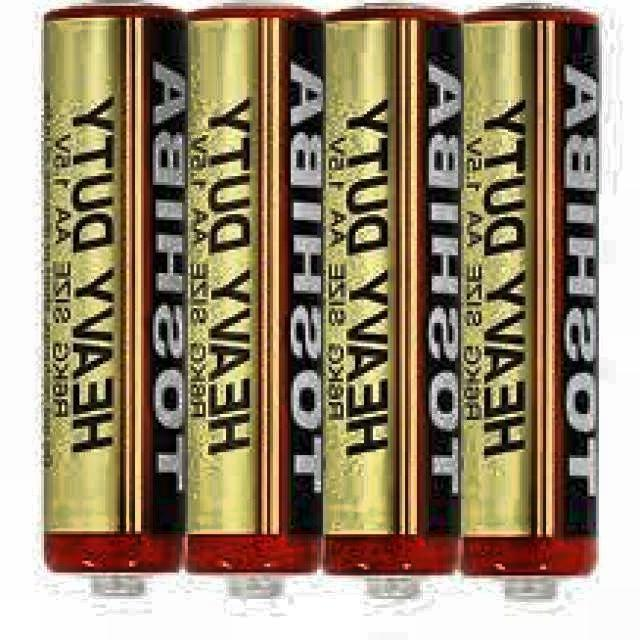battery: (44, 4, 190, 602), (319, 4, 464, 601), (186, 1, 324, 600)
